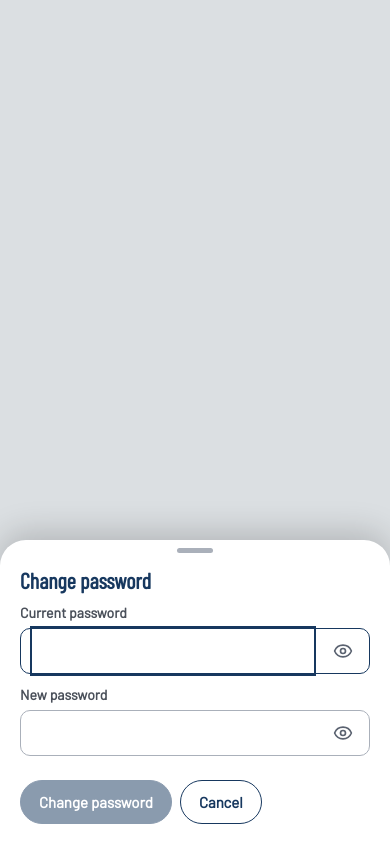
Scenario: ChangePasswordSheet › shows the server’s reason, keeps what was typed, and lets the person try again
In the password field labelled "Current password": point(173, 651) [33,629,313,673], type "wrong"
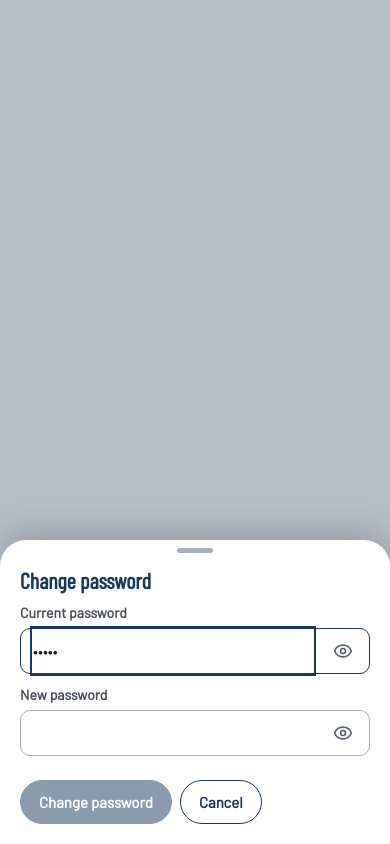
In the password field labelled "New password": point(173, 733) [33,711,313,755], type "Brand-new9pw"
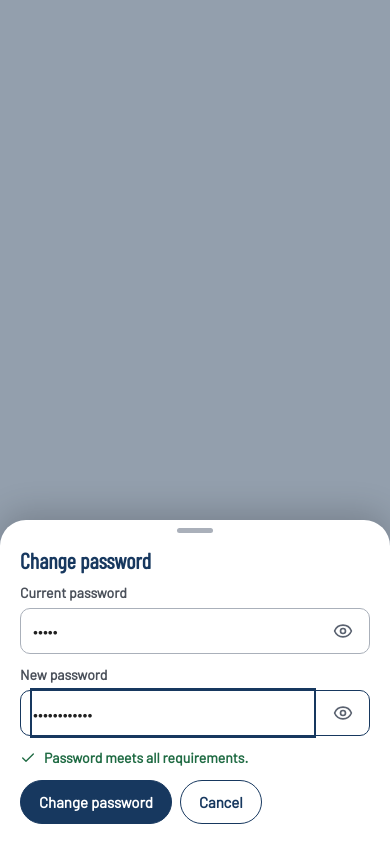
Click the button "Change password": point(96, 802) [20,780,172,824]
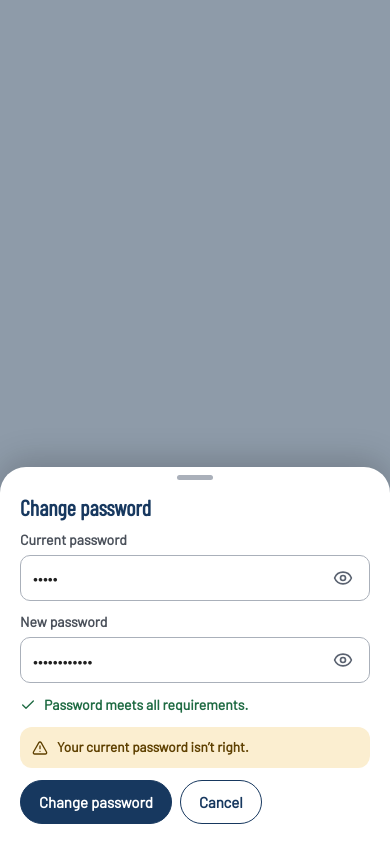
expect the button "Change password" is enabled: met, box [20,780,172,824]
expect the message reads "Your current password isn’t right.": met, box [57,738,249,755]
